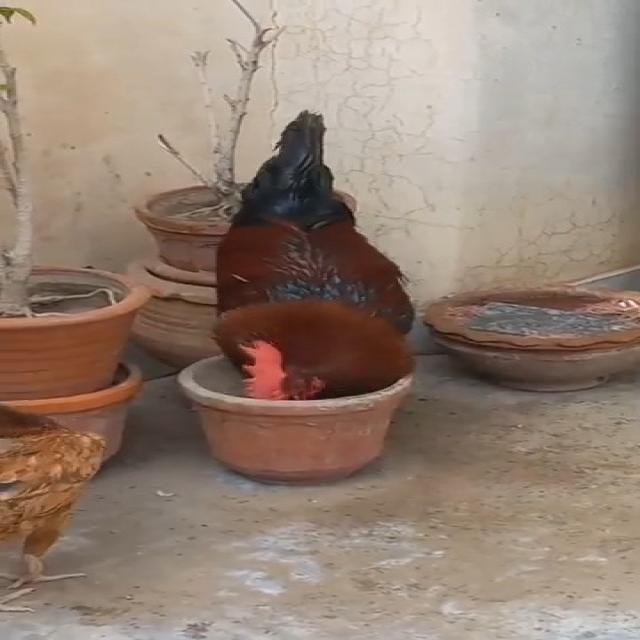stand bath: (203, 94, 430, 408)
